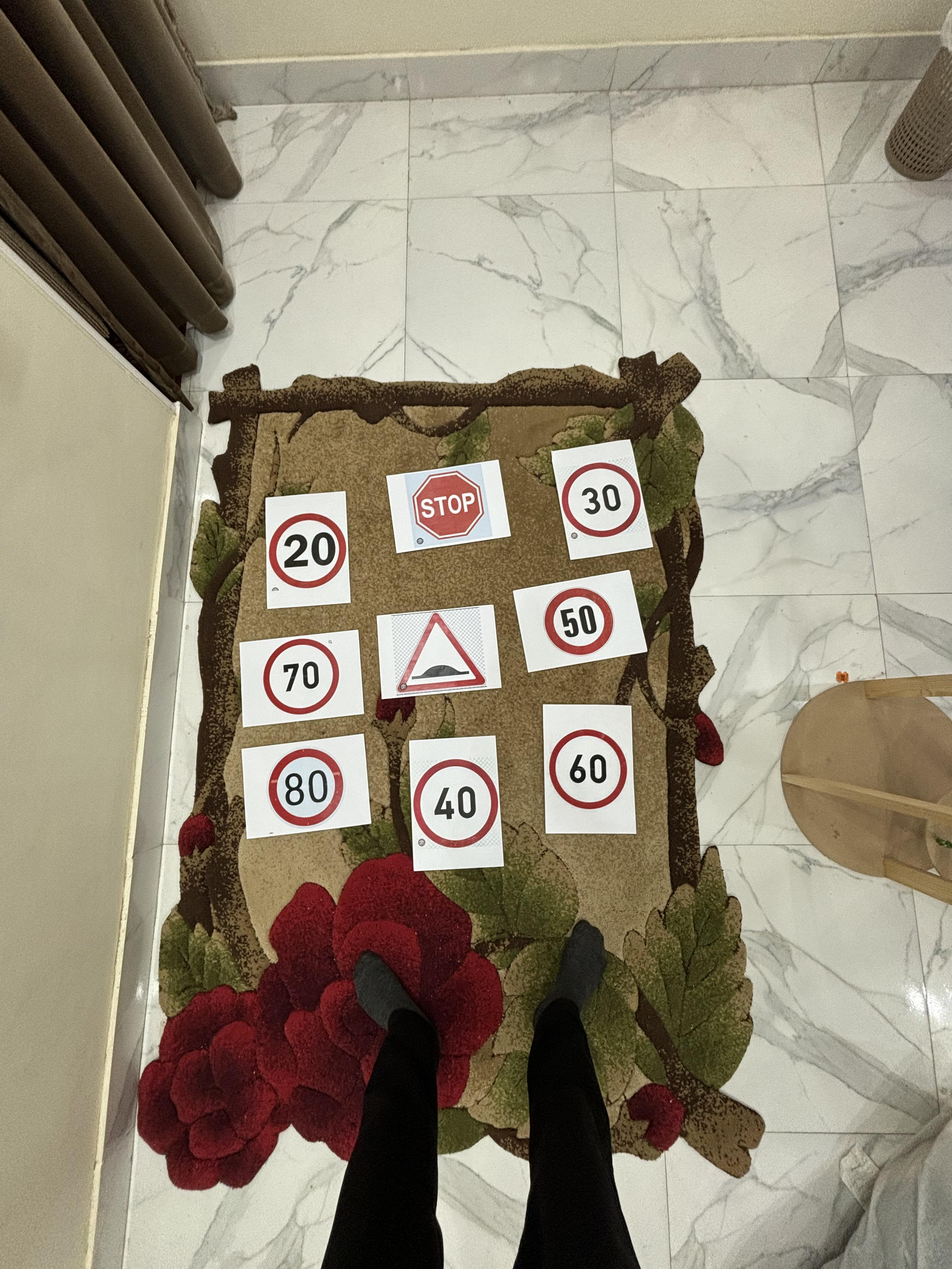20-Speed: (269, 510, 353, 593)
30-speed: (556, 457, 649, 538)
40-Speed: (410, 753, 501, 848)
50-Speed: (541, 583, 624, 656)
60-Speed: (546, 721, 630, 812)
70-Speed: (261, 633, 347, 722)
80-Speed: (266, 743, 356, 827)
Hump: (389, 605, 495, 697)
Stop: (400, 466, 495, 548)
